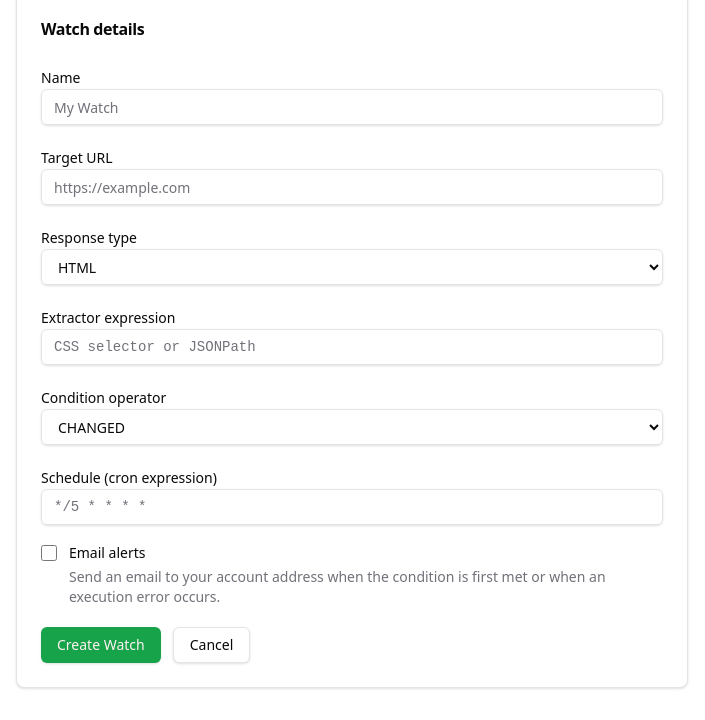
Test case: Create Watch page › shows validation errors when required fields are empty
(page scrolled)
Click the button "Create Watch". click: (101, 645)
box: x1=41 y1=627 x2=161 y2=663
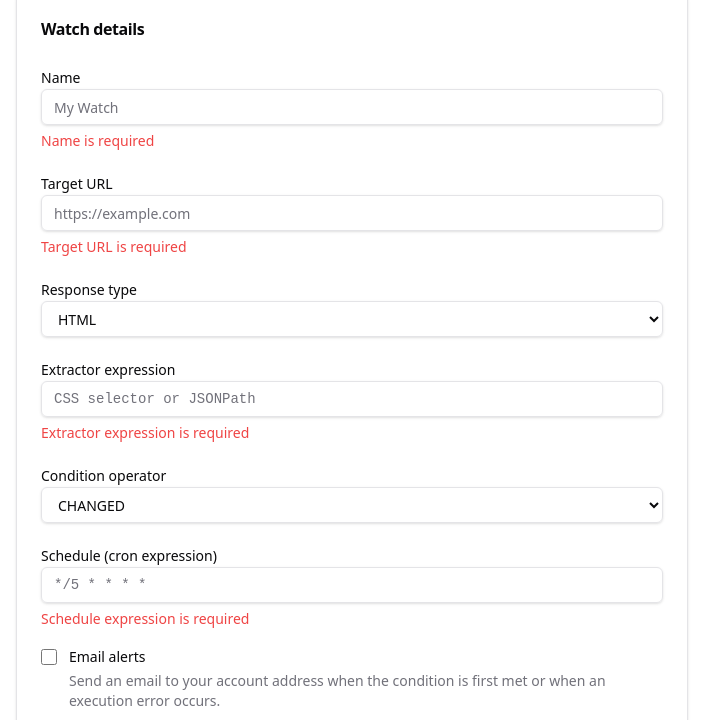
Expected: the text "Name is required" is shown, x1=41 y1=131 x2=154 y2=150
Expected: the text "Target URL is required" is shown, x1=41 y1=237 x2=186 y2=256
Expected: the text "Extractor expression is required" is shown, x1=41 y1=423 x2=249 y2=442
